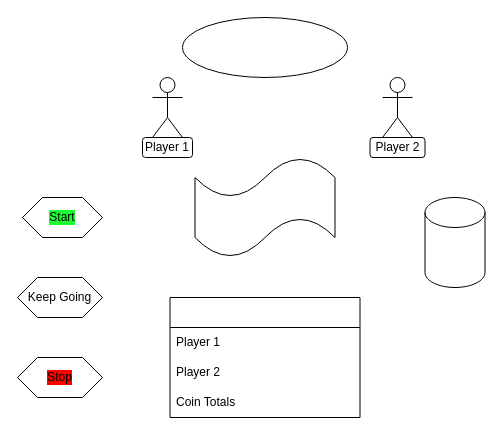
The diagram is 503 pixels wide and 435 high, and some of its shapes have lost their labels. The shapes that lost their labels are listed below. From the top down, each one's box as (x1, y1, x2, y2) in pixels, then its label:
(182, 16, 348, 78): Rounds Display
(194, 156, 335, 258): WINNER!
(424, 196, 485, 288): press to randomize coin selection
(169, 296, 360, 418): Score Keeper
